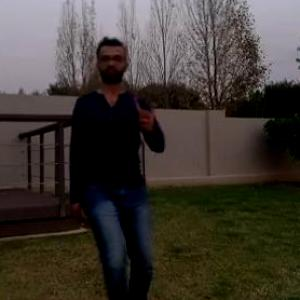takeoff-hand: (133, 88, 166, 128)
